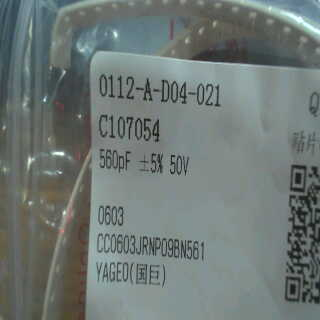560pF: (95, 143, 132, 177)
